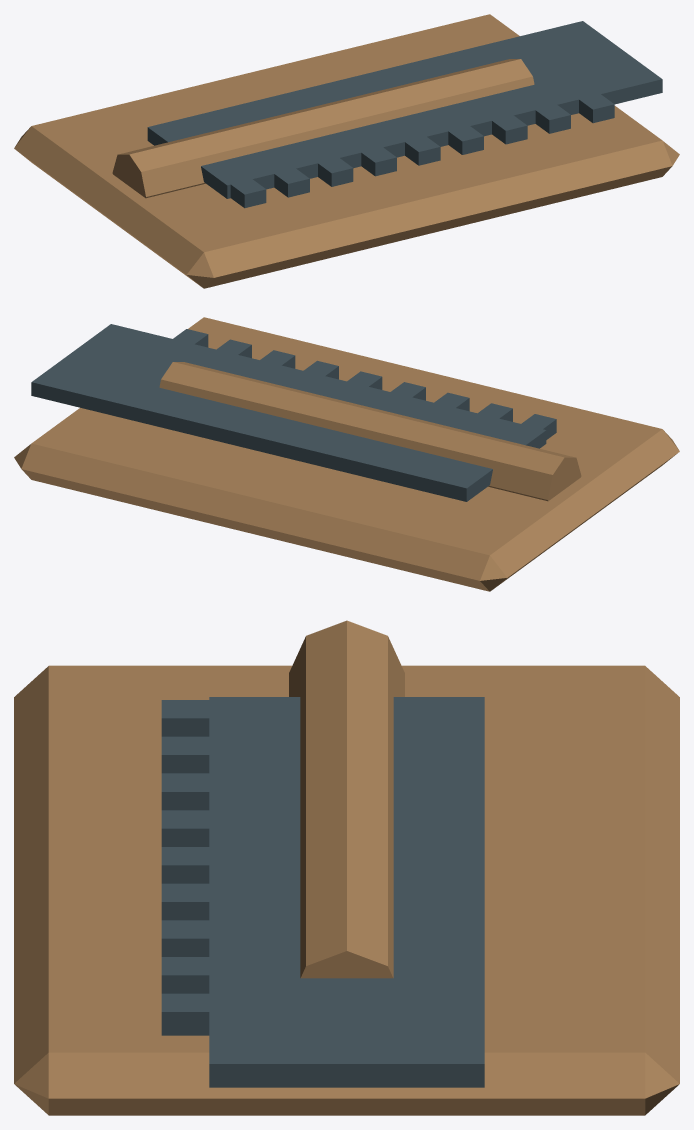
File: set_chopping_board.glb
3 views of the same model, one above another, from view 1: azimuth 30°, elevation 25°; view 2: azimuth 150°, elevation 25°; view 3: azimuth 270°, elevation 25° (orthographic). The views are drawn at different scales.
Visible parts, largest first — view 1: set_chopping_board; view 2: set_chopping_board; view 3: set_chopping_board.
Boxes of the visible parts, x1,y1,x2,y2 form: set_chopping_board: [14, 14, 679, 288]; set_chopping_board: [14, 317, 679, 591]; set_chopping_board: [14, 620, 679, 1115].
Size of the model in its own units: 0.36 by 0.045 by 0.23.
